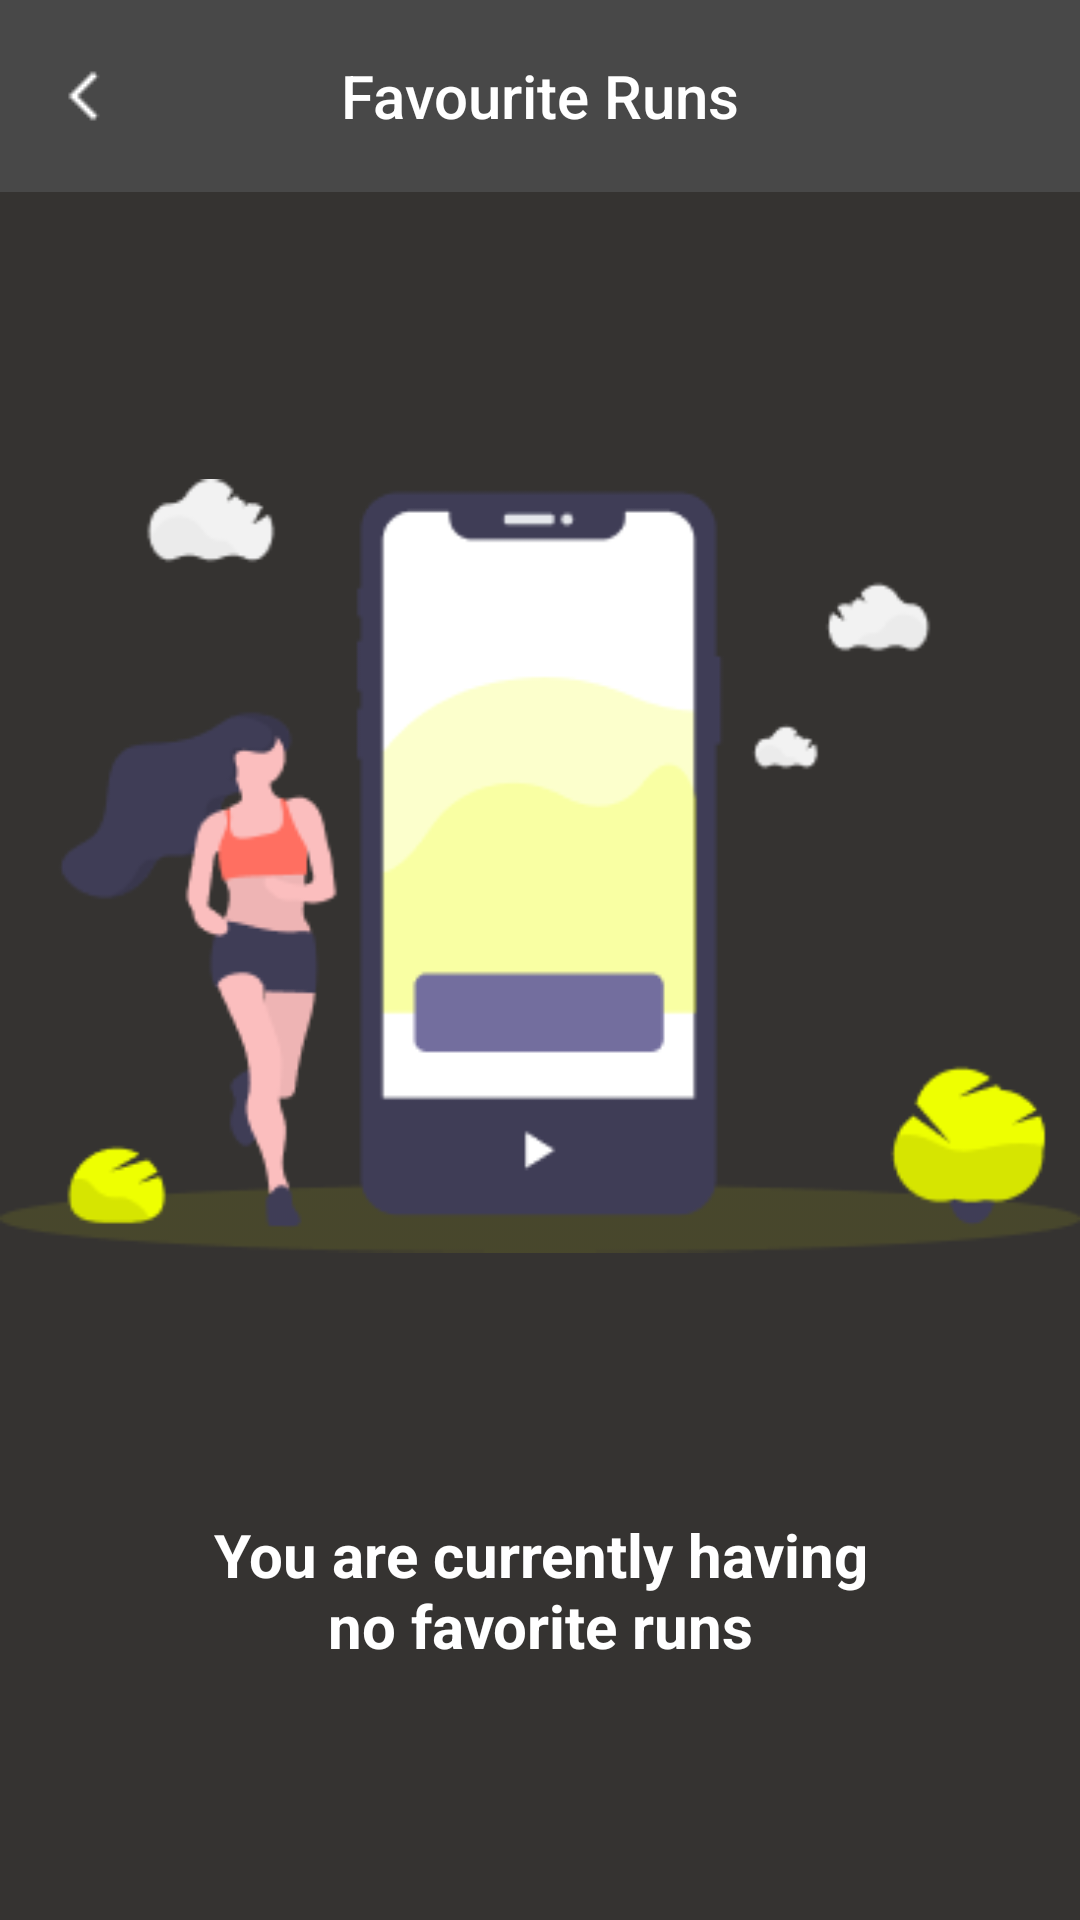

Icons on this 1080px×1920px Android screen, each with its box as (x1, y1, x2, y2):
backbutton: (68, 71, 98, 121)
